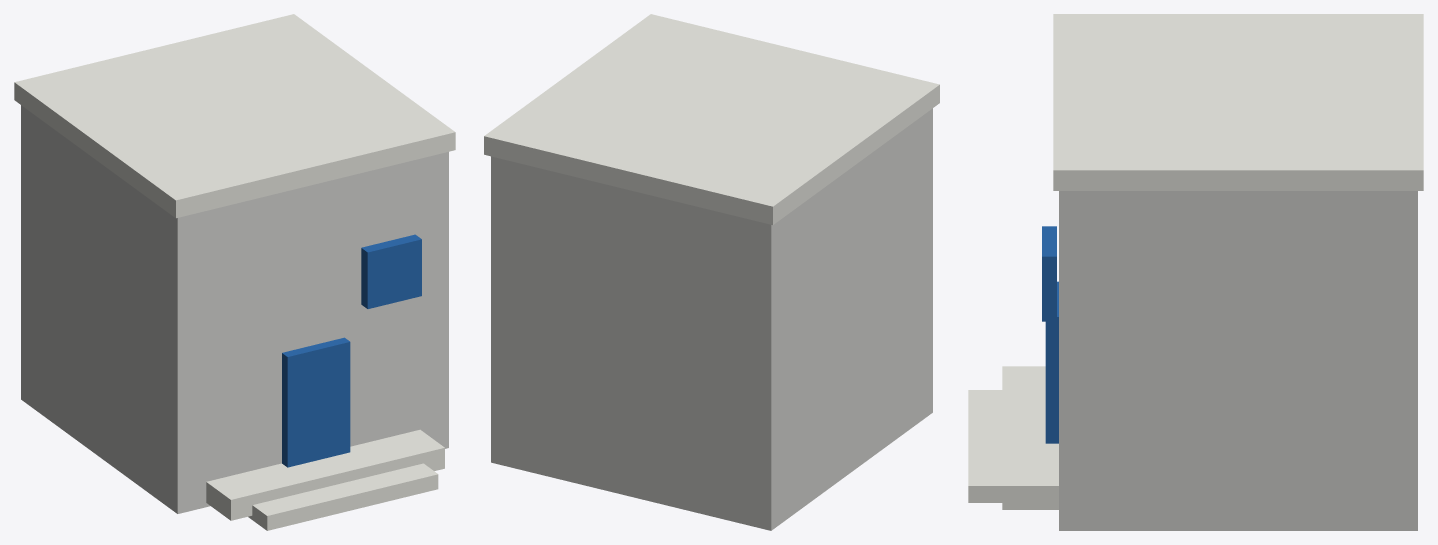
Rendered from loc_sa_bld_whitehouse_b.glb.
The picture shows the model from 3 angles, left to right: view 1: azimuth 30°, elevation 25°; view 2: azimuth 150°, elevation 25°; view 3: azimuth 270°, elevation 25°; orthographic projection. The views are drawn at different scales.
Visible parts, largest first — view 1: body, parapet, porch_floor, door, porch_step, win; view 2: body, parapet; view 3: body, parapet, porch_floor, porch_step, door, win.
Boxes of the visible parts, x1=… form: body: x1=21, y1=105, x2=448, y2=513; parapet: x1=14, y1=14, x2=455, y2=218; porch_floor: x1=206, y1=429, x2=444, y2=520; door: x1=282, y1=337, x2=350, y2=467; porch_step: x1=248, y1=463, x2=438, y2=530; win: x1=361, y1=234, x2=421, y2=308; body: x1=491, y1=108, x2=932, y2=530; parapet: x1=484, y1=14, x2=939, y2=224; body: x1=1059, y1=191, x2=1417, y2=530; parapet: x1=1053, y1=14, x2=1423, y2=190; porch_floor: x1=1002, y1=366, x2=1058, y2=509; porch_step: x1=968, y1=390, x2=1002, y2=502; door: x1=1045, y1=281, x2=1058, y2=443; win: x1=1042, y1=226, x2=1056, y2=321.
Size of the model in its own units: 1.96 by 2.12 by 2.41.
